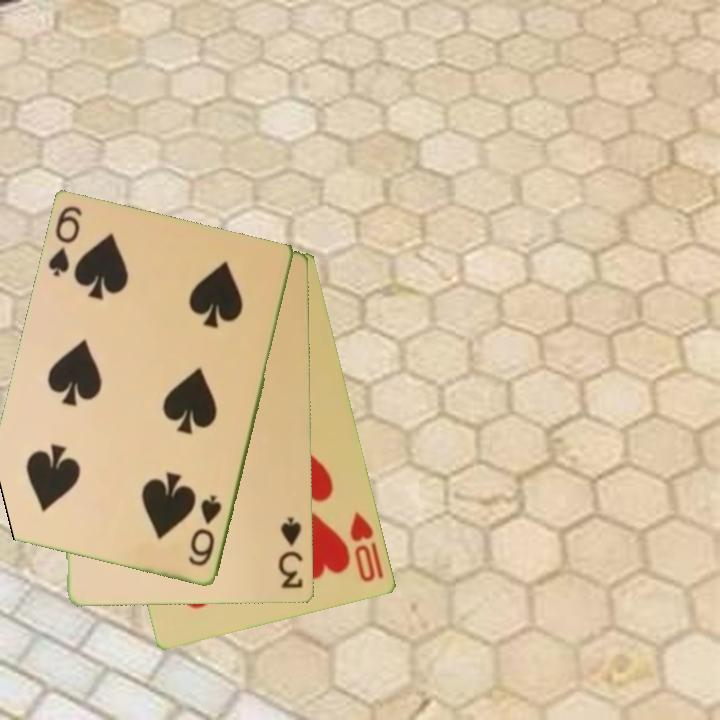10h: (346, 509, 387, 586)
3s: (275, 514, 306, 592)
6s: (184, 492, 225, 570), (45, 203, 86, 280)
